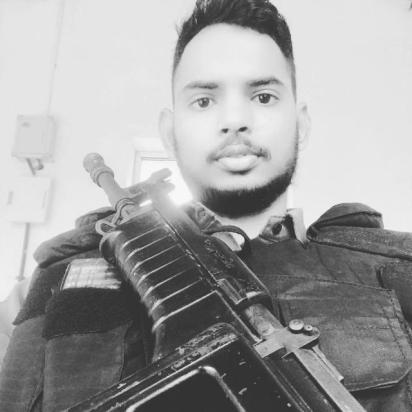Gun: (58, 149, 378, 412)
